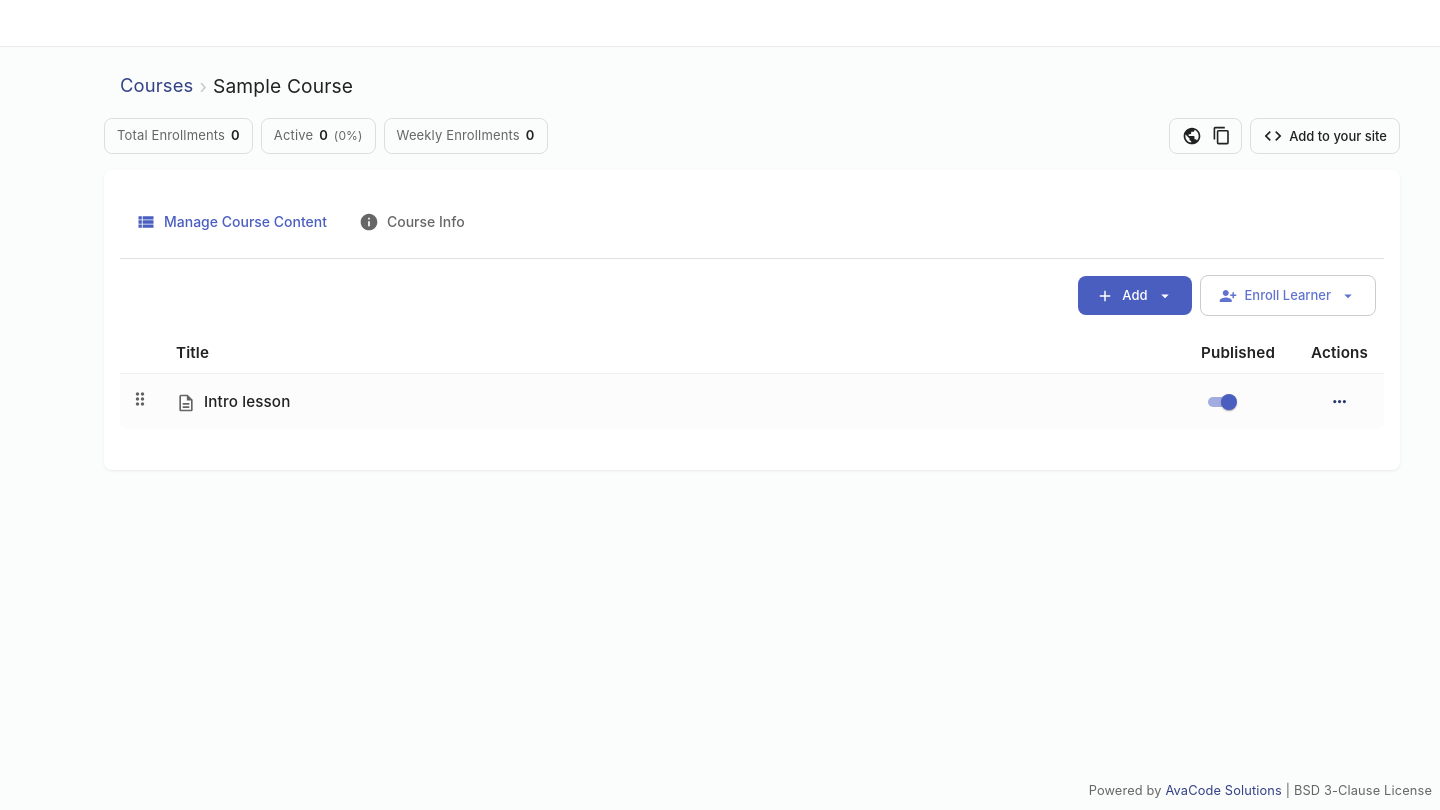
Test: Course › "Add to your site" embed button › shows an error message when the embed snippet fails to load
This screenshot has width=1440, height=810.
Click the button "Add to your site".
click(1325, 136)  # box x1=1250 y1=118 x2=1400 y2=154
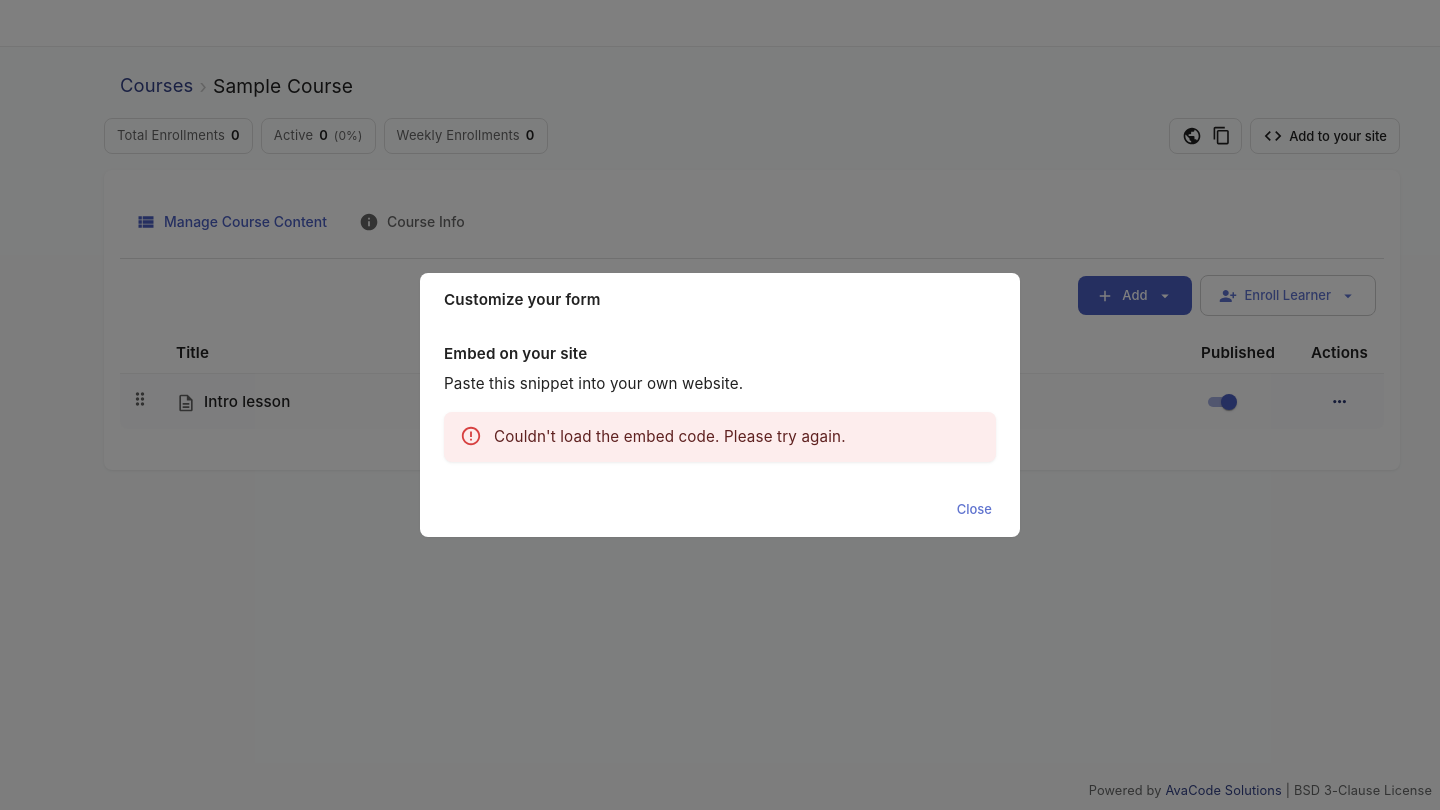
Expected: the message reads "Couldn't load the embed code. Please try again.", x1=494 y1=427 x2=846 y2=446
